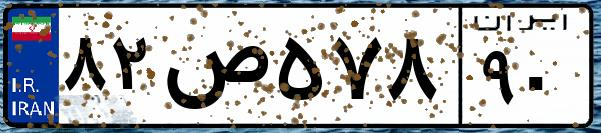0: (525, 38, 570, 115)
2: (110, 28, 158, 98)
5: (270, 28, 330, 110)
7: (330, 28, 385, 110)
8: (385, 28, 445, 110), (57, 26, 110, 100)
9: (475, 38, 525, 113)
ص: (158, 20, 270, 120)
